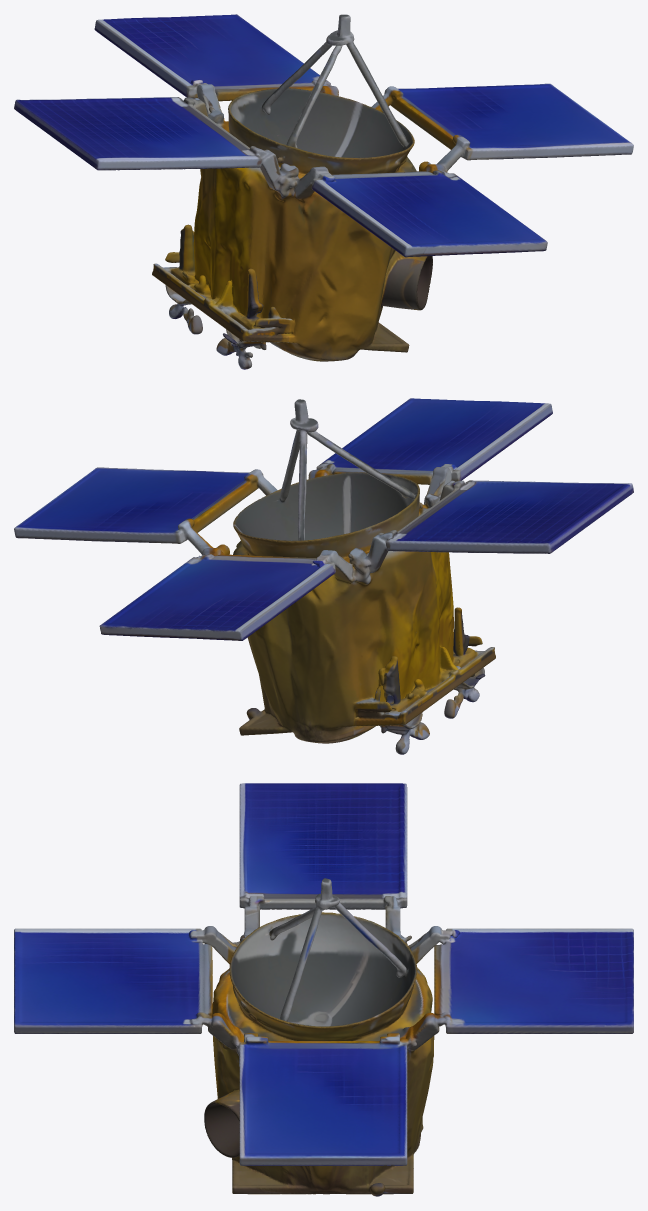
File: space satellite 3d model.glb
3 views of the same model, one above another, from view 1: azimuth 30°, elevation 25°; view 2: azimuth 150°, elevation 25°; view 3: azimuth 270°, elevation 25° (orthographic).
Visible parts, largest first — view 1: tripo_node_54ea541f-b86f-47ae-bd7b-32152005fb41; view 2: tripo_node_54ea541f-b86f-47ae-bd7b-32152005fb41; view 3: tripo_node_54ea541f-b86f-47ae-bd7b-32152005fb41.
Part boxes in pixels (<box>): tripo_node_54ea541f-b86f-47ae-bd7b-32152005fb41: <box>14,14,633,369</box>; tripo_node_54ea541f-b86f-47ae-bd7b-32152005fb41: <box>14,398,633,754</box>; tripo_node_54ea541f-b86f-47ae-bd7b-32152005fb41: <box>14,783,633,1196</box>.
Size of the model in its own units: 0.9968 by 0.547 by 1.
1 material, 1 textured.
